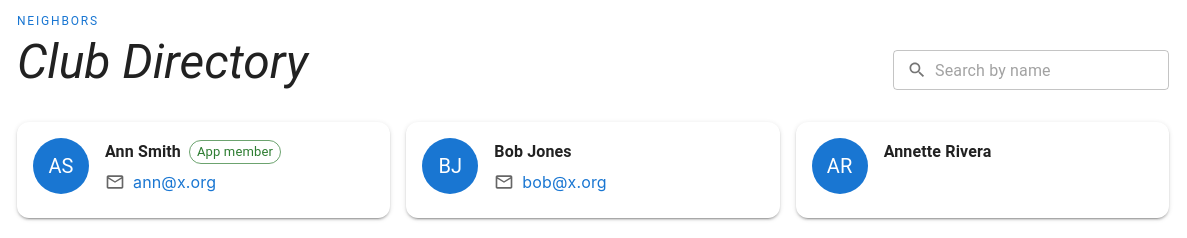
Test: Directory page search › matches on name only, not email
The image size is (1187, 238).
Expected: the heading "Bob Jones" is shown, [494, 138, 572, 166]
In the field labelled "Search by name": coordinates (1052, 70) [935, 50, 1169, 90], type "bob@x.org"
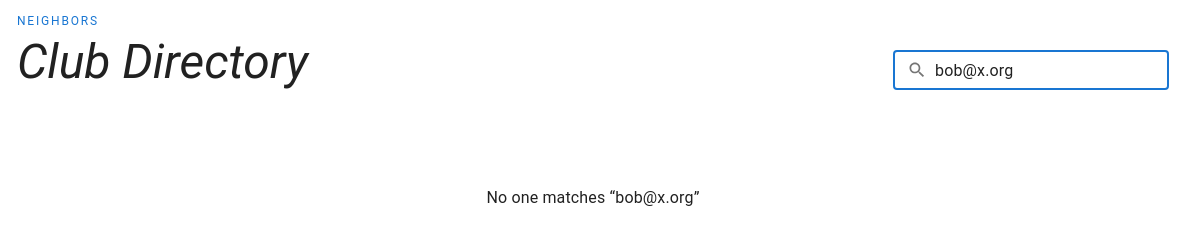
Now the text "No one matches “bob@x.org”" is shown, box [486, 188, 700, 207]
